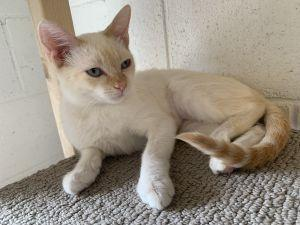siamese: (35, 1, 144, 121)
